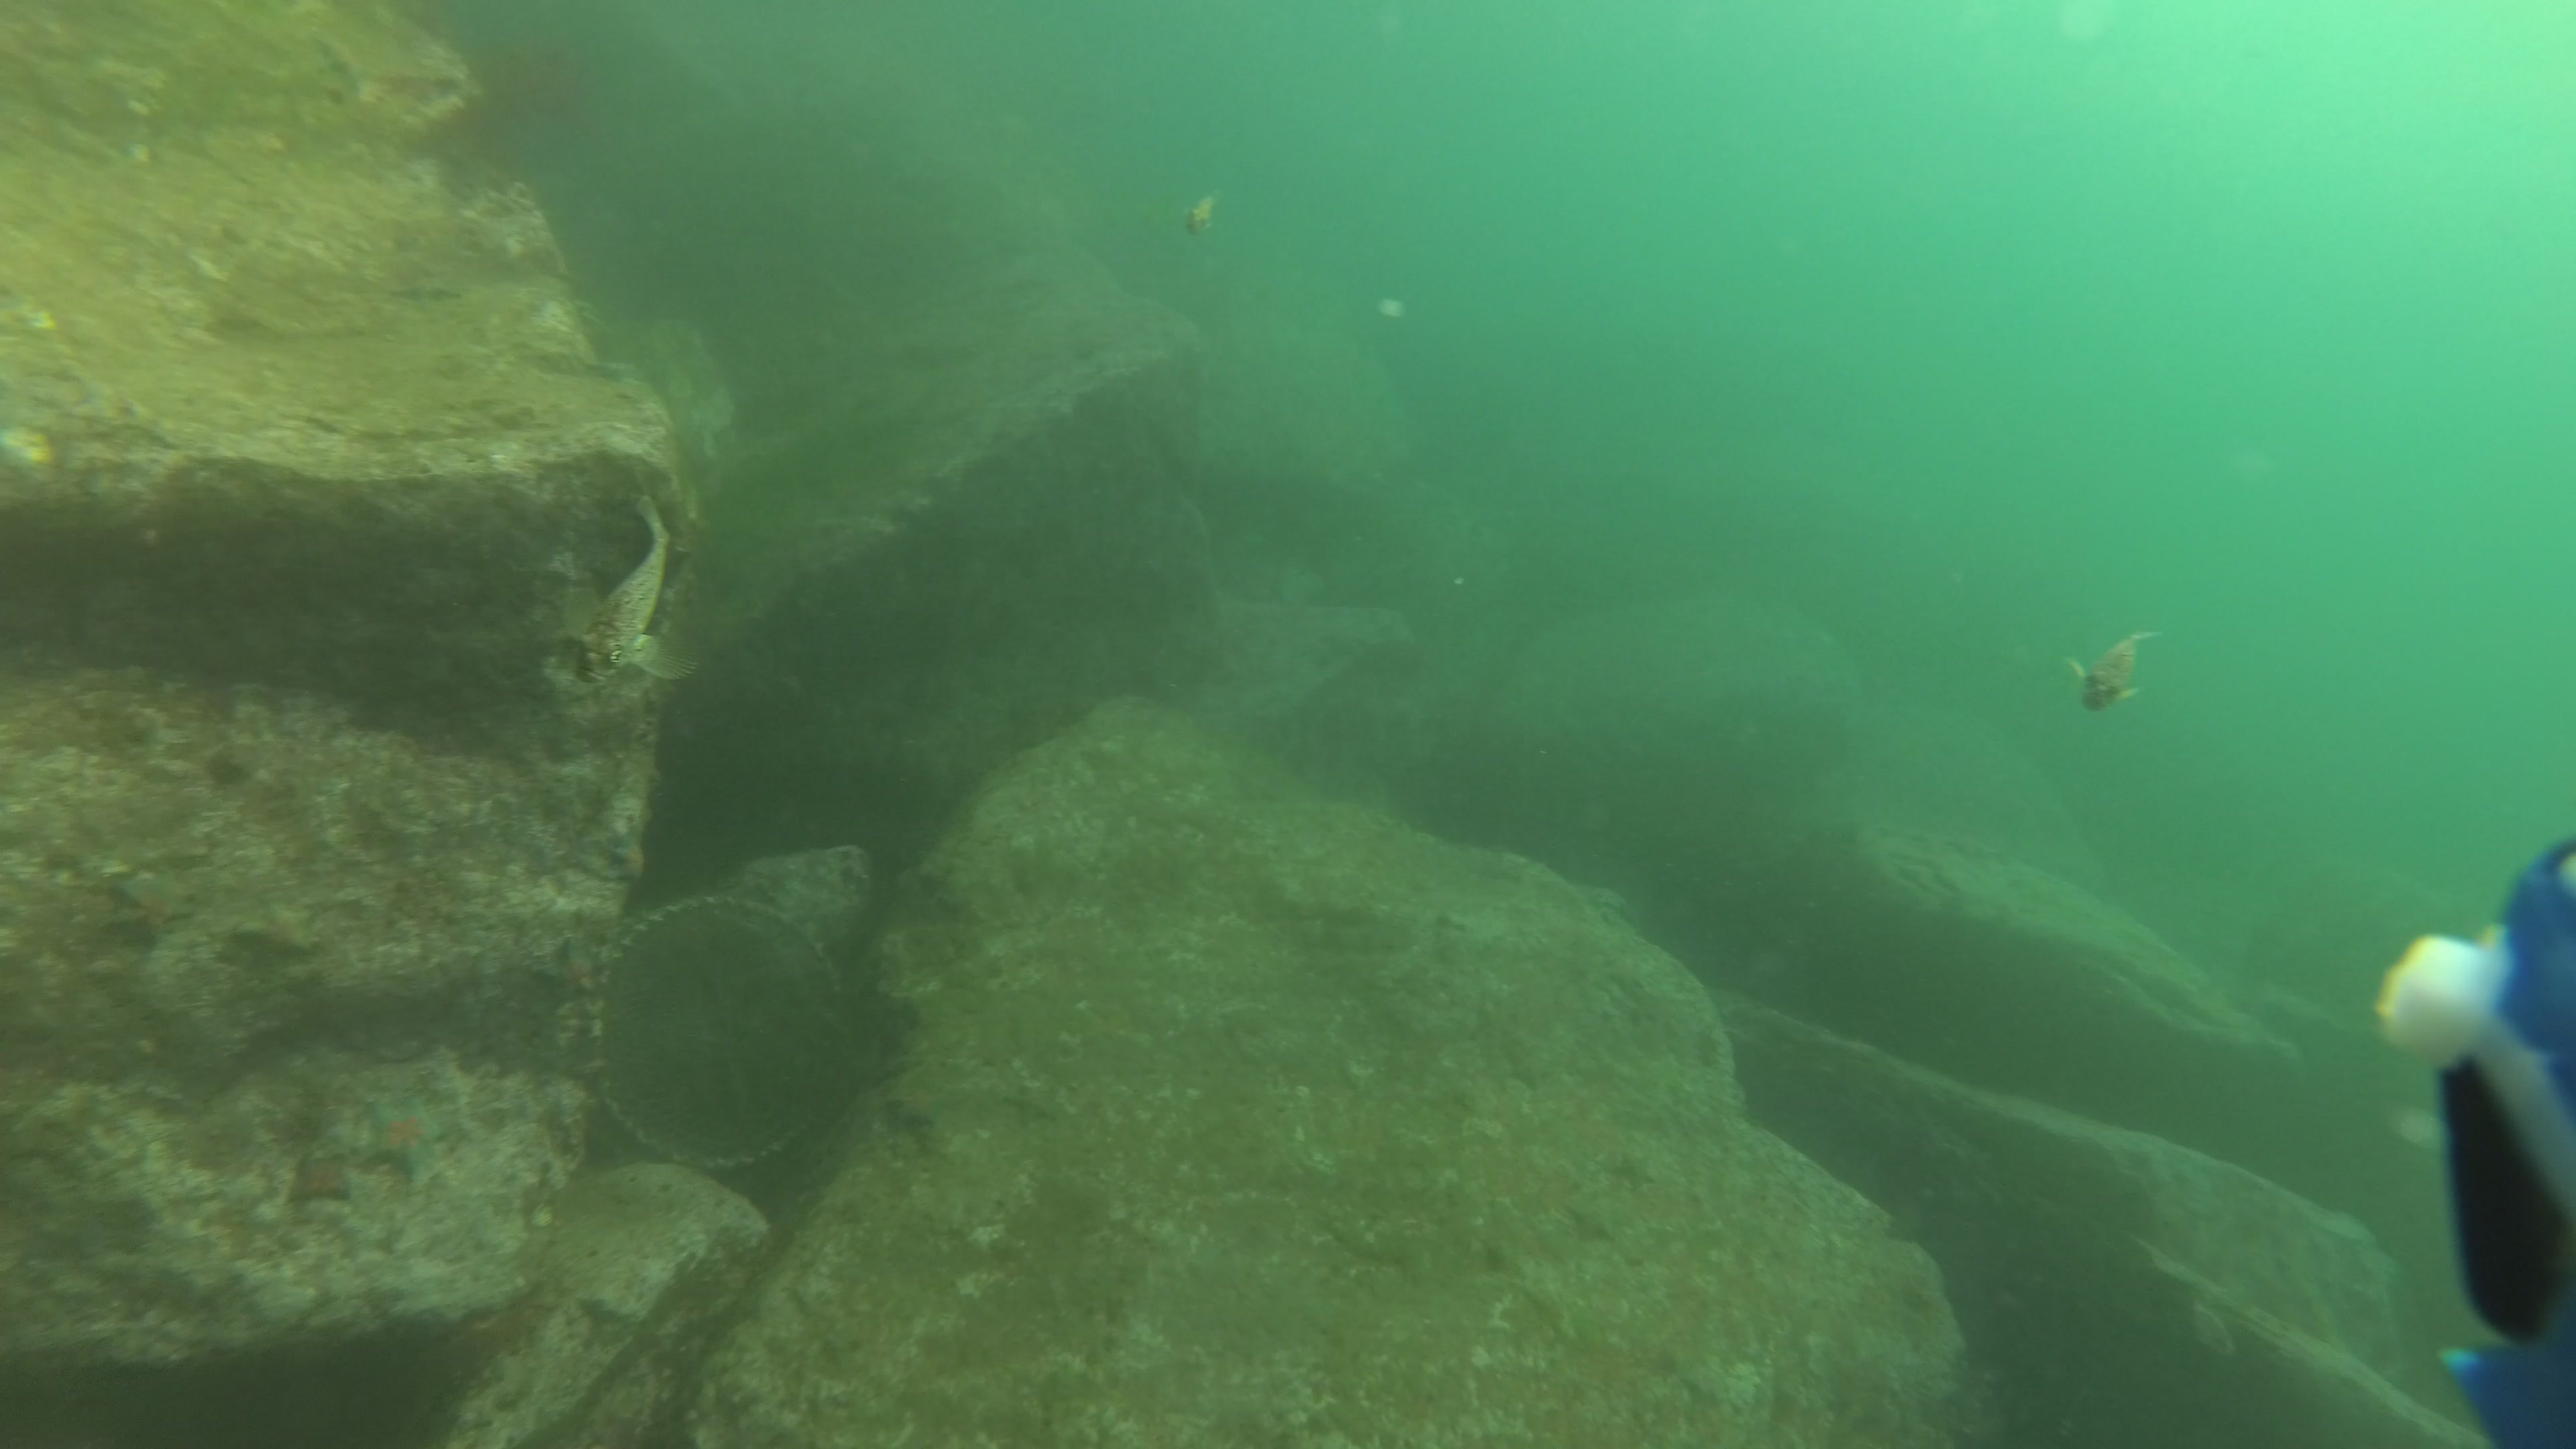starfish: (232, 895, 326, 980), (364, 1092, 449, 1182), (104, 869, 196, 950), (290, 1146, 357, 1203), (313, 30, 372, 92), (881, 1083, 955, 1129), (1557, 1192, 1621, 1244), (1610, 1148, 1661, 1196), (391, 274, 464, 308), (584, 357, 653, 386)
